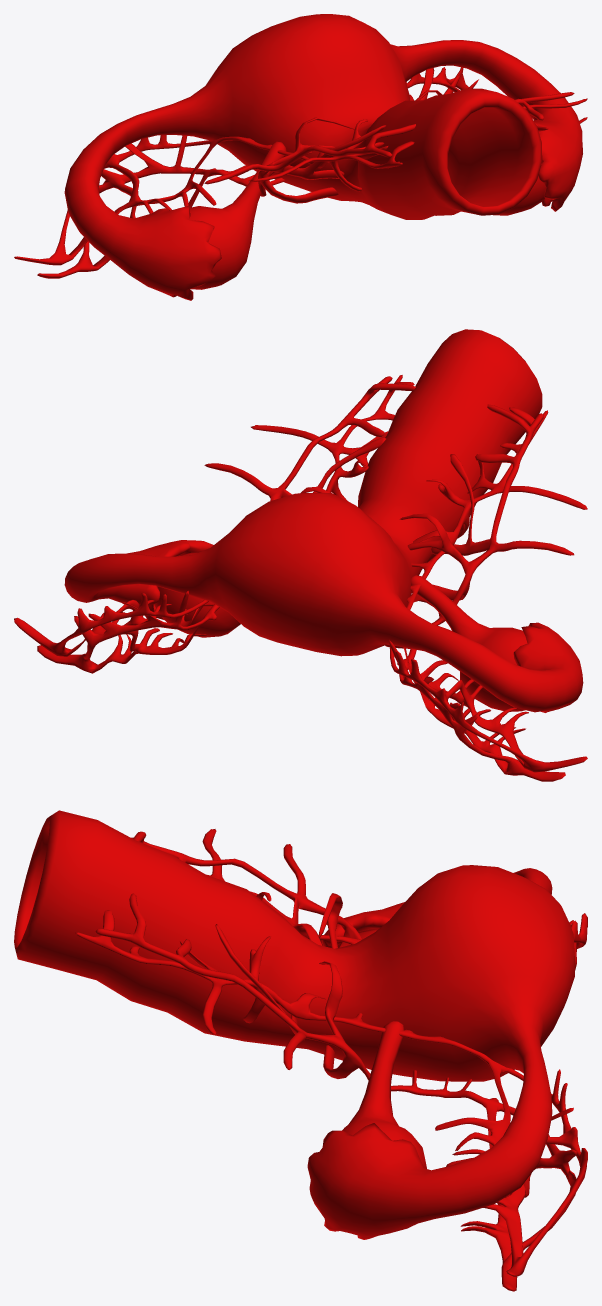
3 views of the same model, one above another, from view 1: azimuth 30°, elevation 25°; view 2: azimuth 150°, elevation 25°; view 3: azimuth 270°, elevation 25° (orthographic). The views are drawn at different scales.
Parts seen in each view (by area): view 1: matka, bloodPipe; view 2: matka, bloodPipe; view 3: matka, bloodPipe.
Boxes of the visible parts, bbox=[...] form: matka: bbox=[64, 14, 582, 300]; bloodPipe: bbox=[14, 67, 587, 278]; matka: bbox=[64, 329, 583, 712]; bloodPipe: bbox=[14, 375, 587, 781]; matka: bbox=[14, 810, 575, 1239]; bloodPipe: bbox=[75, 829, 587, 1291].
Size of the model in its own units: 27.44 by 19.01 by 11.91.
